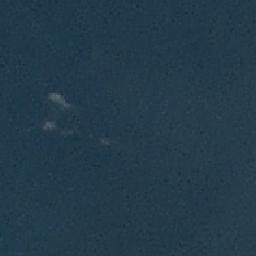debris: (47, 93, 66, 104), (44, 120, 58, 129), (62, 128, 76, 137), (98, 138, 109, 147)
